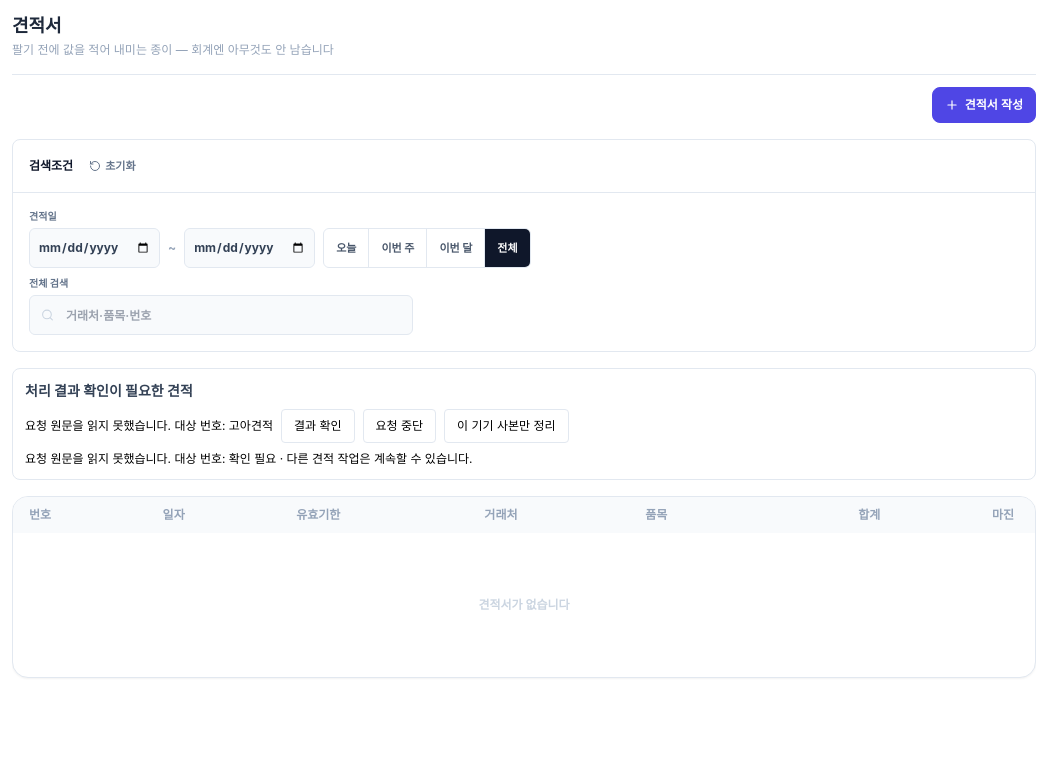
Test: 손상 원문은 유효 참조일 때만 조회·사본정리가 가능하며 식별불가 건에 버튼을 만들지 않는다
Click the button "이 기기 사본만 정리" at (506, 426), box [444,409,569,443]
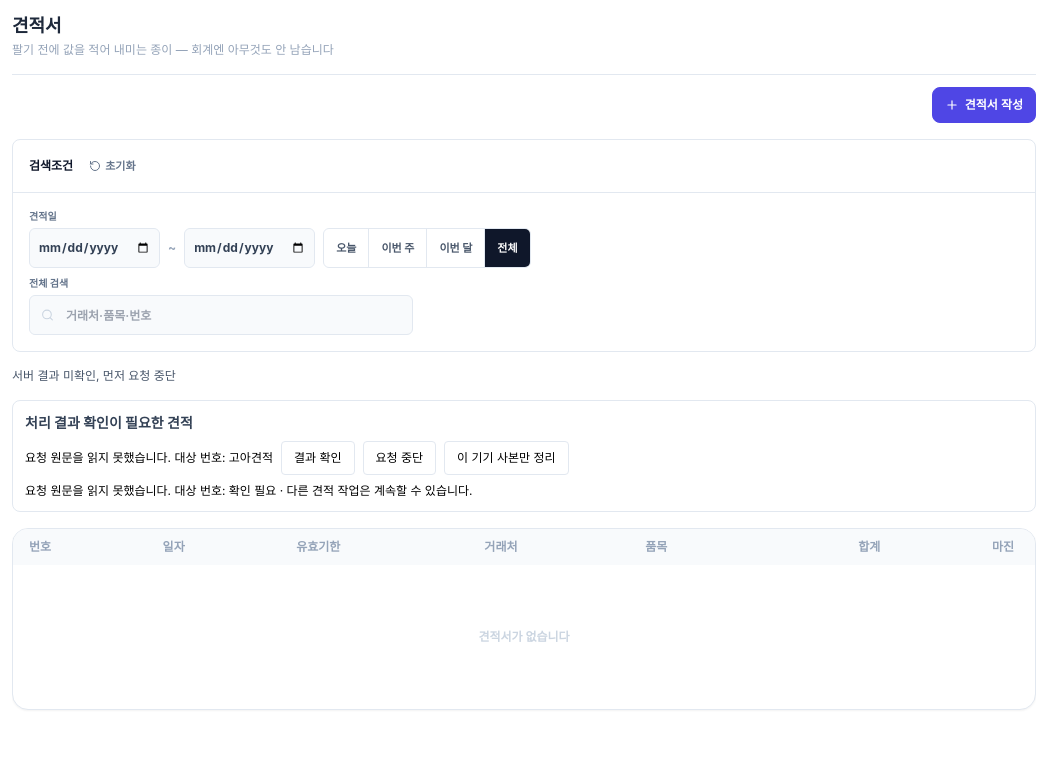
expect the text "서버 결과 미확인, 먼저 요청 중단" is shown: met, box [12,368,176,383]
